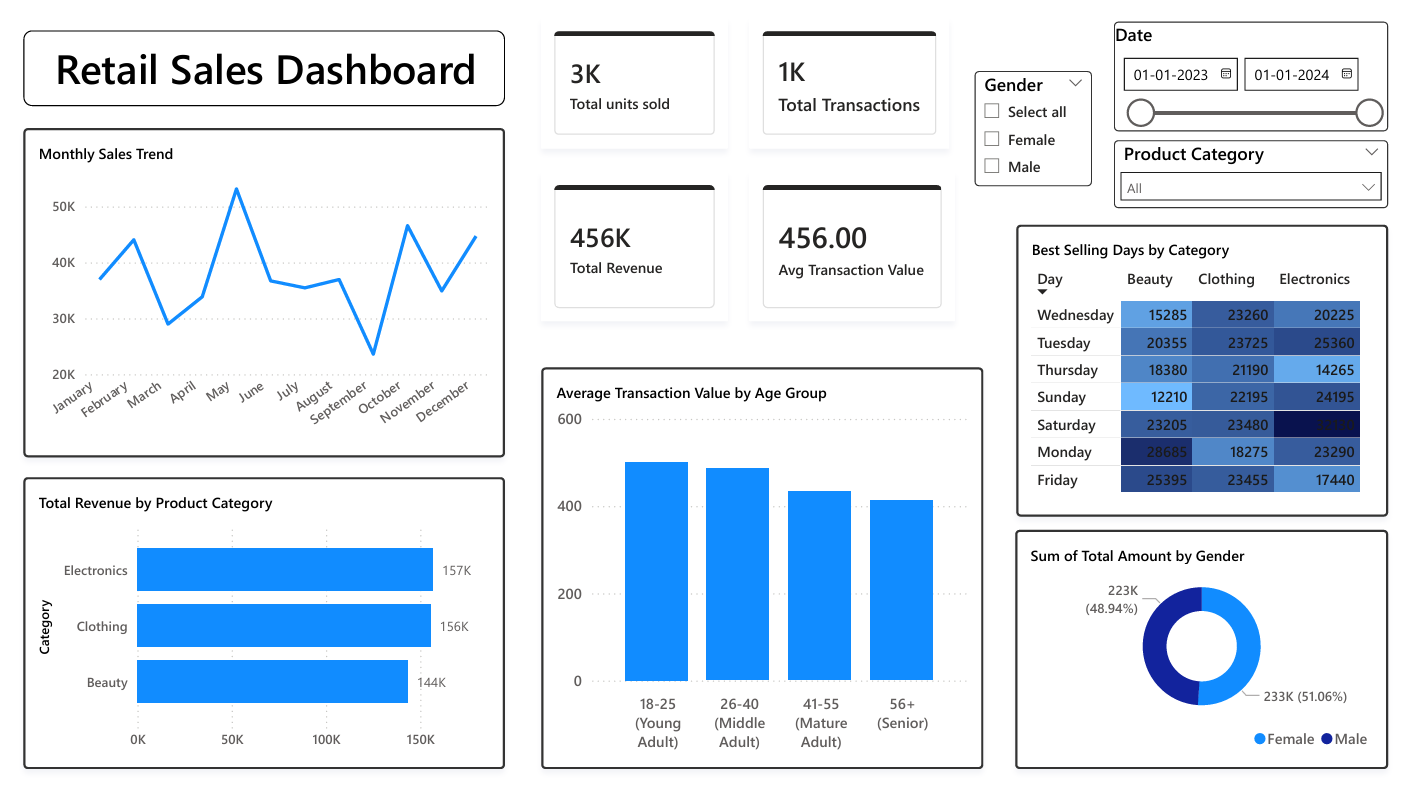

The dashboard page shown, as its layout file describes it:
{"tool":"powerbi","page":{"name":"Page 1","canvas":[1280,720],"ordinal":0},"visuals":[{"type":"lineChart","title":"Monthly Sales Trend","fields":{"Category":["retail_sales_dataset.Date.Variation.Date Hierarchy.Month"],"Y":["Sum(retail_sales_dataset.Total Amount)"]},"box":[21.2,110,438.8,300],"z":0},{"type":"clusteredBarChart","title":"Total Revenue by Product Category","fields":{"Y":["Sum(retail_sales_dataset.Total Amount)"],"Category":["retail_sales_dataset.Product Category"]},"box":[21.2,427.5,438.8,266.2],"z":1000},{"type":"donutChart","fields":{"Category":["retail_sales_dataset.Gender"],"Y":["Sum(retail_sales_dataset.Total Amount)"]},"box":[925,476.2,340,217.5],"z":2000},{"type":"clusteredColumnChart","title":"Average Transaction Value by Age Group","fields":{"Y":["Avg(retail_sales_dataset.Total Amount)"],"Category":["retail_sales_dataset.Age bin"]},"box":[492.5,327.5,403.8,366.2],"z":3000},{"type":"pivotTable","title":"Best Selling Days by Category","fields":{"Rows":["retail_sales_dataset.Day"],"Columns":["retail_sales_dataset.Product Category"],"Values":["Sum(retail_sales_dataset.Total Amount)"]},"box":[926.2,197.5,338.8,266.2],"z":4000},{"type":"slicer","title":"Date","fields":{"Values":["retail_sales_dataset.Date"]},"box":[1015,12.5,250,100],"z":5000},{"type":"slicer","fields":{"Values":["retail_sales_dataset.Product Category"]},"box":[1015,121.2,250,61.2],"z":6000},{"type":"cardVisual","fields":{"Data":["Sum(retail_sales_dataset.Total Amount)"]},"box":[492.5,150,170,136.2],"z":7000},{"type":"cardVisual","fields":{"Data":["Sum(retail_sales_dataset.Quantity)"]},"box":[492.5,10,170,118.8],"z":8000},{"type":"cardVisual","fields":{"Data":["CountNonNull(retail_sales_dataset.Transaction ID)"]},"box":[682.5,10,182.5,118.8],"z":9000},{"type":"textbox","box":[21.2,21.2,438.8,68.8],"z":10000},{"type":"slicer","fields":{"Values":["retail_sales_dataset.Gender"]},"box":[887.5,57.5,107.5,105],"z":11000},{"type":"cardVisual","fields":{"Data":["Avg(retail_sales_dataset.Total Amount)"]},"box":[682.5,150,187.5,136.2],"z":12000}]}

Visuals, with their boxes in screenshot pixels (x1, y1, x2, y2), scaled from the page's 1280x720 canvas onto the 1405x786 screenshot:
"Monthly Sales Trend" lineChart: [23,120,505,448]
"Total Revenue by Product Category" clusteredBarChart: [23,467,505,757]
donutChart - retail_sales_dataset.Gender x Sum(retail_sales_dataset.Total Amount): [1015,520,1389,757]
"Average Transaction Value by Age Group" clusteredColumnChart: [541,358,984,757]
"Best Selling Days by Category" pivotTable: [1017,216,1389,506]
"Date" slicer: [1114,14,1389,123]
slicer - retail_sales_dataset.Product Category: [1114,132,1389,199]
cardVisual - Sum(retail_sales_dataset.Total Amount): [541,164,727,312]
cardVisual - Sum(retail_sales_dataset.Quantity): [541,11,727,141]
cardVisual - CountNonNull(retail_sales_dataset.Transaction ID): [749,11,949,141]
textbox: [23,23,505,98]
slicer - retail_sales_dataset.Gender: [974,63,1092,177]
cardVisual - Avg(retail_sales_dataset.Total Amount): [749,164,955,312]
